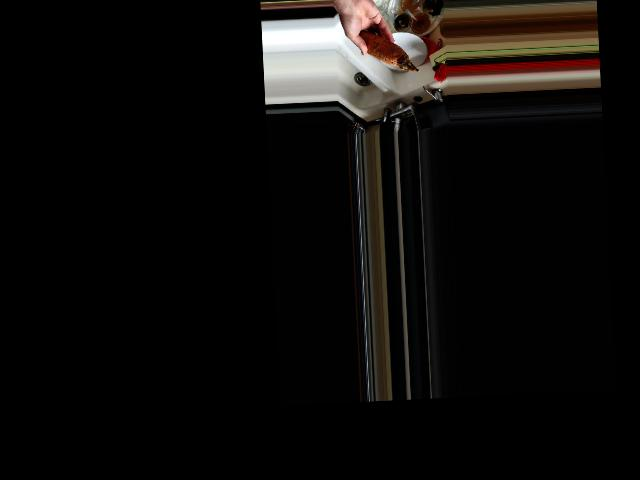sweet_potato: (354, 24, 420, 75)
